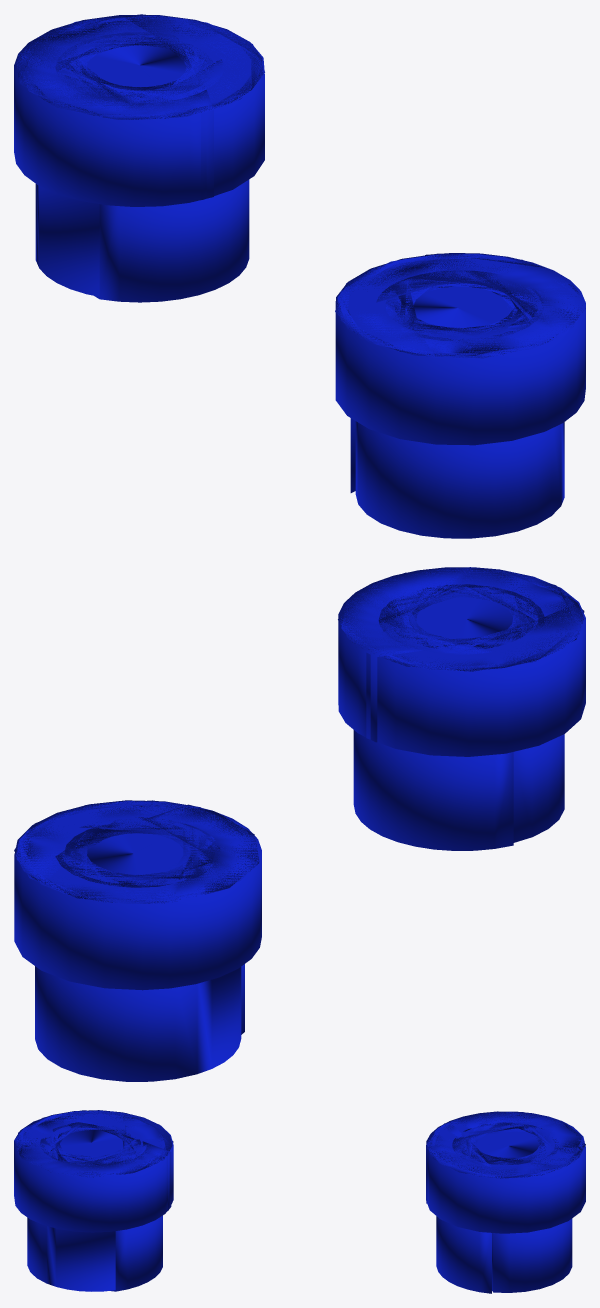
The model's file is tuyeau_element_000052.obj.
3 renders of one model, top to bottom at view 1: azimuth 30°, elevation 25°; view 2: azimuth 150°, elevation 25°; view 3: azimuth 270°, elevation 25°, orthographic. The views are drawn at different scales.
Visible parts, largest first — view 1: tuyeau1_Cube.014, tuyeau2_Cube.017; view 2: tuyeau2_Cube.017, tuyeau1_Cube.014; view 3: tuyeau1_Cube.014, tuyeau2_Cube.017.
Boxes of the visible parts, x1,y1,x2,y2 form: tuyeau1_Cube.014: (14, 14, 264, 302); tuyeau2_Cube.017: (335, 253, 585, 538); tuyeau2_Cube.017: (338, 567, 585, 850); tuyeau1_Cube.014: (14, 800, 261, 1081); tuyeau1_Cube.014: (426, 1111, 585, 1293); tuyeau2_Cube.017: (14, 1110, 173, 1291).
Size of the model in its own units: 3590 by 2917 by 12612.
